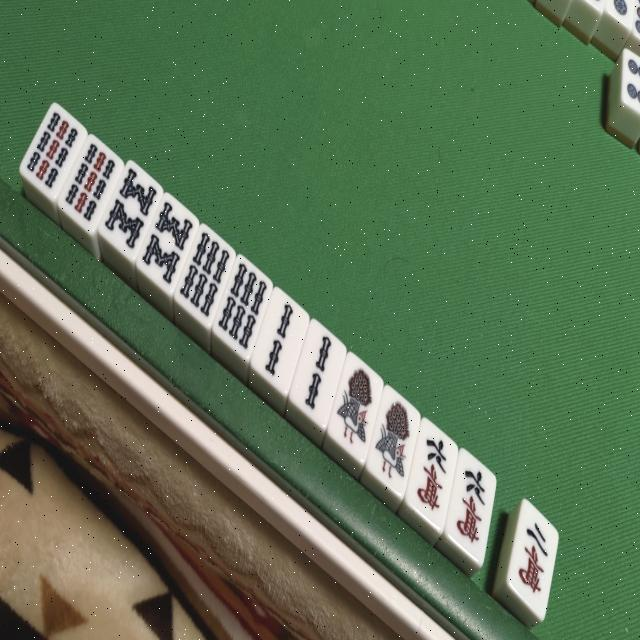bamboos_1: (326, 349, 385, 468), (364, 382, 421, 502)
bamboos_2: (287, 314, 349, 434), (249, 283, 312, 399)
bamboos_5: (211, 252, 274, 365)
bamboos_6: (211, 252, 274, 365), (172, 222, 236, 331)
bamboos_8: (135, 188, 201, 296), (98, 156, 164, 263)
bamboos_9: (56, 129, 125, 237), (18, 100, 88, 203)
characters_2: (506, 497, 560, 623)
characters_6: (443, 444, 498, 568), (404, 416, 460, 536)
